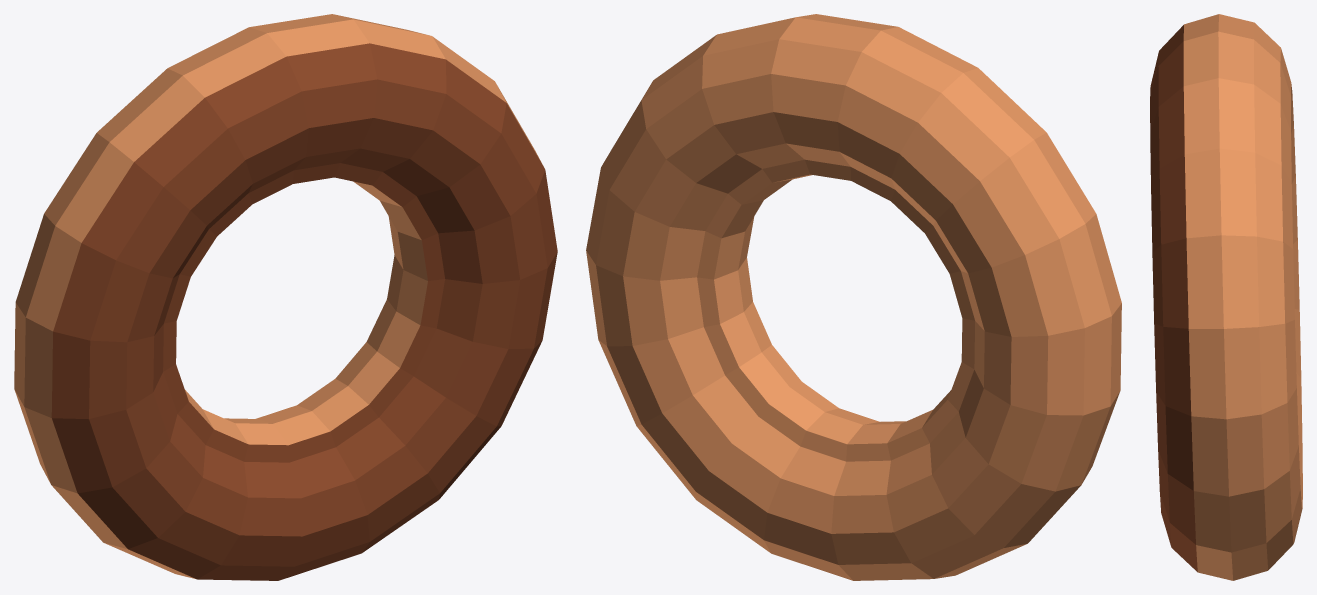
Rendered from donut3.fbx.
3 renders of one model, left to right at view 1: azimuth 30°, elevation 25°; view 2: azimuth 150°, elevation 25°; view 3: azimuth 270°, elevation 25°, orthographic. The views are drawn at different scales.
Visible parts, largest first — view 1: Torus.001; view 2: Torus.001; view 3: Torus.001.
Part boxes in pixels (<box>): Torus.001: <box>14,14,557,580</box>; Torus.001: <box>586,14,1121,580</box>; Torus.001: <box>1150,14,1302,580</box>.
Bounding box in the file's own units: 169 × 169 × 45.59.
